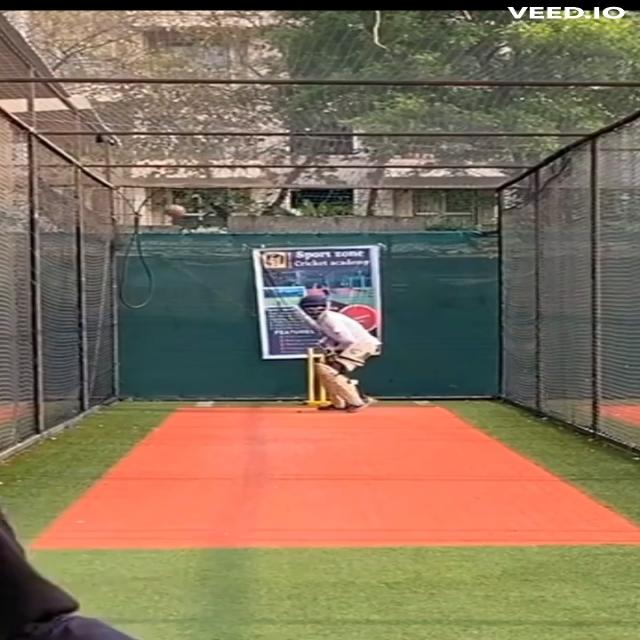ball: (163, 201, 189, 218)
stump: (300, 344, 328, 408)
